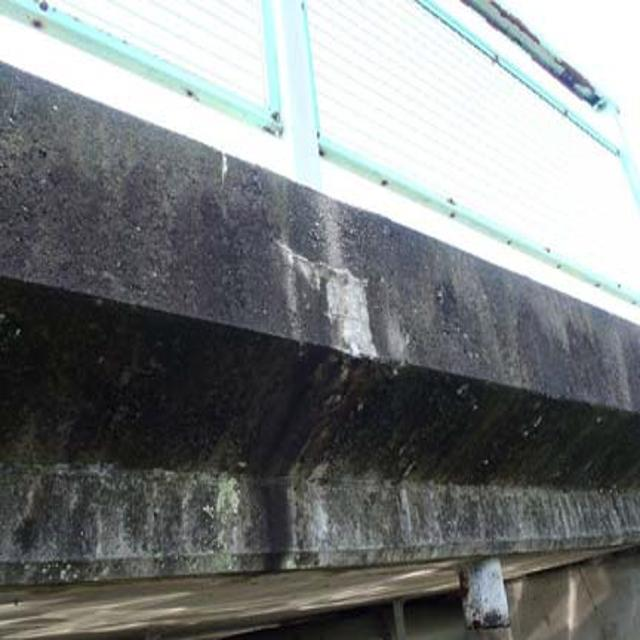freelime: (273, 237, 384, 369)
